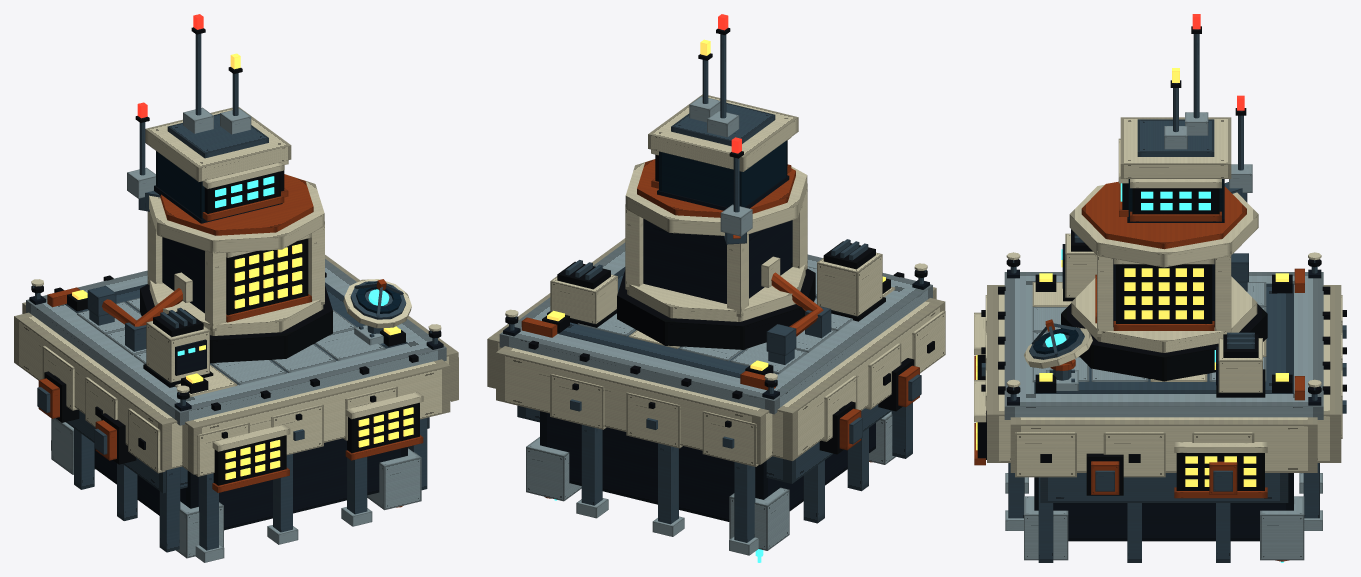
The model's file is control_relay.glb.
3 renders of one model, left to right at view 1: azimuth 30°, elevation 25°; view 2: azimuth 150°, elevation 25°; view 3: azimuth 270°, elevation 25°, orthographic. The views are drawn at different scales.
Visible parts, largest first — view 1: traffic_control_static / module, traffic_tracking_dish / module; view 2: traffic_control_static / module; view 3: traffic_control_static / module, traffic_tracking_dish / module, traffic_tracking_dish_fixed_pedestal / module.
Part boxes in pixels (left/top/right/bottom): traffic_control_static / module: left=14, top=14, right=458, bottom=562; traffic_tracking_dish / module: left=343, top=279, right=411, bottom=328; traffic_control_static / module: left=487, top=14, right=945, bottom=555; traffic_control_static / module: left=974, top=14, right=1346, bottom=562; traffic_tracking_dish / module: left=1024, top=319, right=1092, bottom=370; traffic_tracking_dish_fixed_pedestal / module: left=1046, top=359, right=1078, bottom=390.
Bounding box in the file's own units: 13.44 × 18.62 × 12.63.
Materials: 10 (10 with a texture image).
